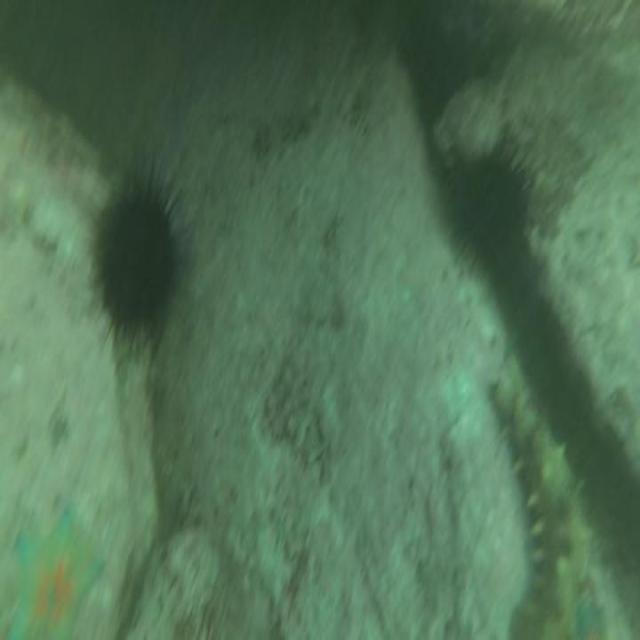echinus: (83, 160, 191, 356), (443, 137, 535, 283)
holothurian: (484, 371, 588, 640)
starfish: (3, 509, 106, 640)
